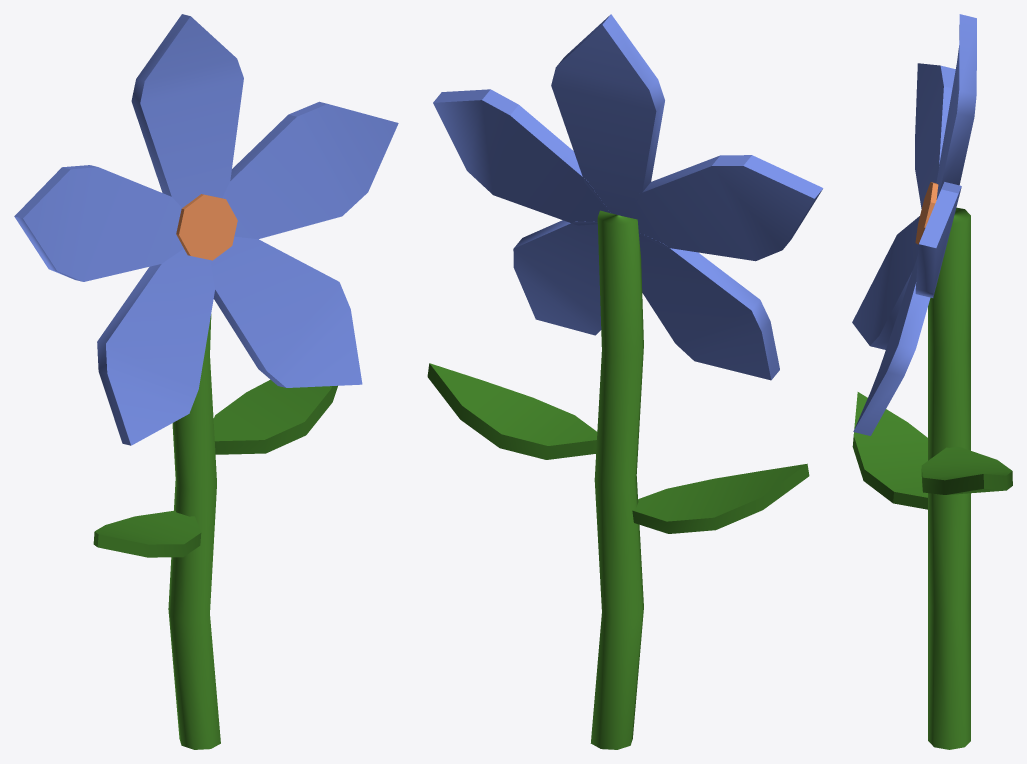
File: Flower_Blue_6.fbx
The picture shows the model from 3 angles, left to right: view 1: azimuth 30°, elevation 25°; view 2: azimuth 150°, elevation 25°; view 3: azimuth 270°, elevation 25°; orthographic projection.
Visible parts, largest first — view 1: Cube.074, Cylinder.603, Plane.186, Plane.187, Cylinder.600; view 2: Cube.074, Cylinder.603, Plane.186, Plane.187; view 3: Cylinder.603, Cube.074, Plane.187, Plane.186, Cylinder.600.
Boxes of the visible parts, bbox=[...] form: Cube.074: bbox=[14, 14, 398, 445]; Cylinder.603: bbox=[168, 314, 220, 749]; Plane.186: bbox=[213, 379, 337, 454]; Plane.187: bbox=[93, 510, 201, 557]; Cylinder.600: bbox=[176, 194, 237, 260]; Cube.074: bbox=[433, 14, 823, 380]; Cylinder.603: bbox=[590, 210, 643, 749]; Plane.186: bbox=[427, 363, 597, 459]; Plane.187: bbox=[632, 463, 809, 533]; Cylinder.603: bbox=[928, 207, 970, 749]; Cube.074: bbox=[852, 14, 976, 435]; Plane.187: bbox=[852, 392, 927, 509]; Plane.186: bbox=[921, 446, 1012, 494]; Cylinder.600: bbox=[915, 182, 938, 244].
Size of the model in its own units: 71.56 by 131 by 26.41.
